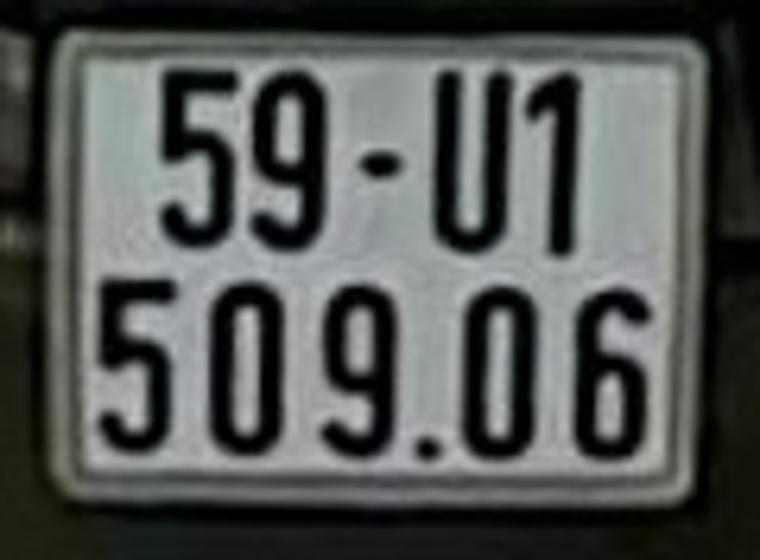-: (353, 147, 402, 180)
.: (413, 435, 445, 467)
0: (461, 282, 539, 465), (210, 279, 279, 457)
1: (524, 70, 587, 259)
5: (154, 61, 243, 253), (92, 274, 179, 455)
6: (566, 280, 652, 466)
9: (320, 280, 402, 465), (251, 67, 331, 249)
U: (422, 60, 514, 257)
